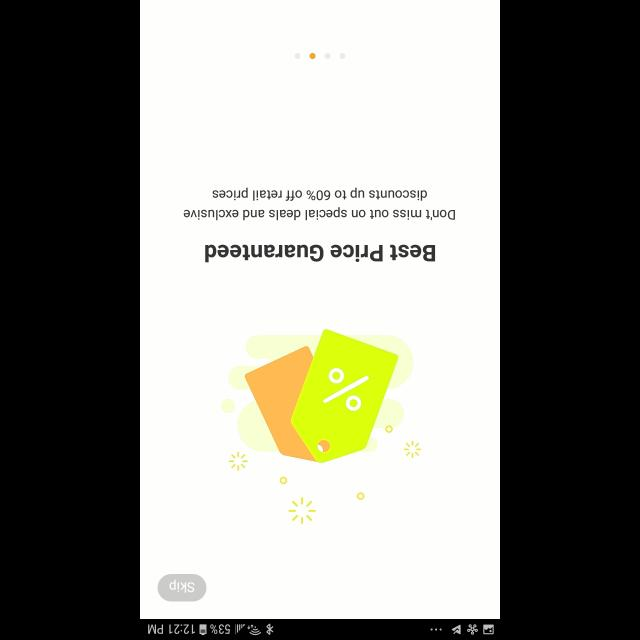image: (220, 328, 422, 524)
pageindicator: (294, 52, 346, 59)
text: (183, 187, 454, 221), (205, 244, 435, 262)
textbutton: (158, 574, 206, 602)
uppertaskbar: (140, 618, 500, 640)
